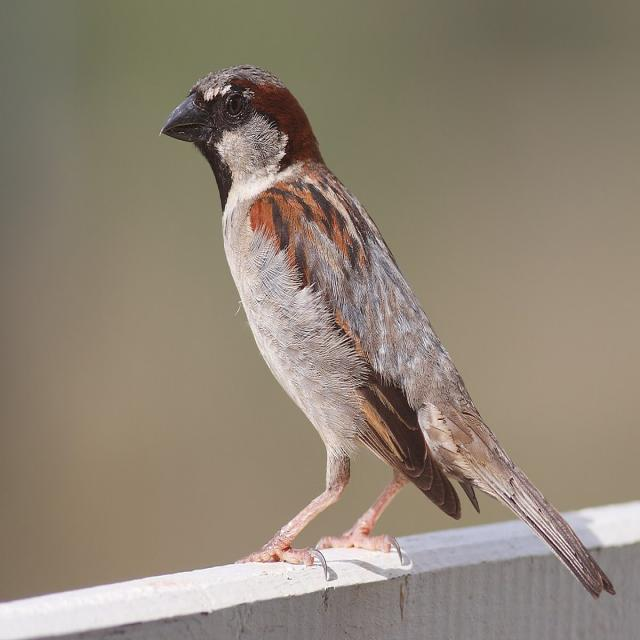bird: (161, 64, 618, 602)
